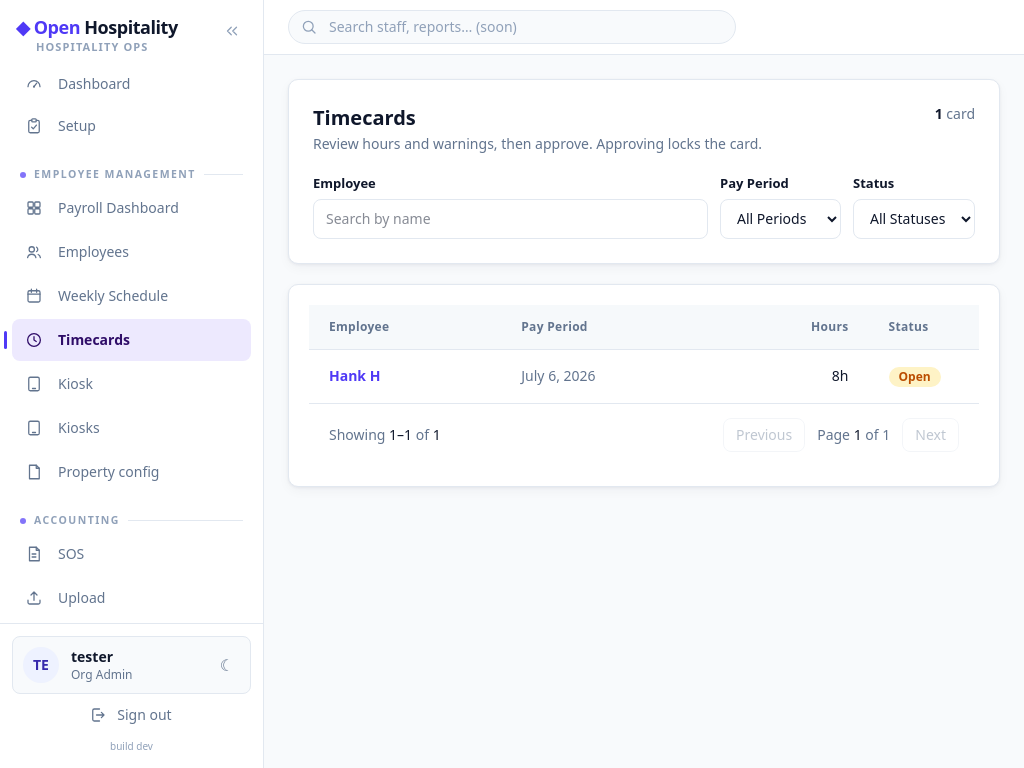
TimecardsPage › says so for a purged punch, and fetches nothing for it
This screenshot has width=1024, height=768.
Click the button "Hank H" at (355, 376), box [329,366,380,386]
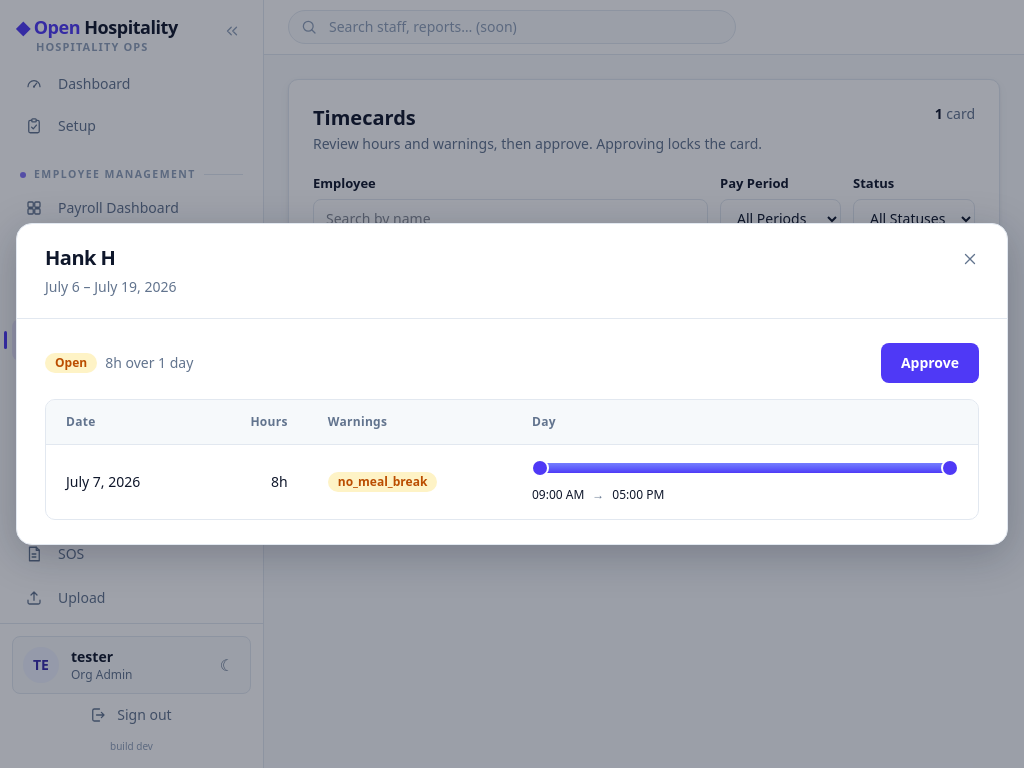
Click the button named "Clock Out" at (950, 468), box [943,461,957,475]
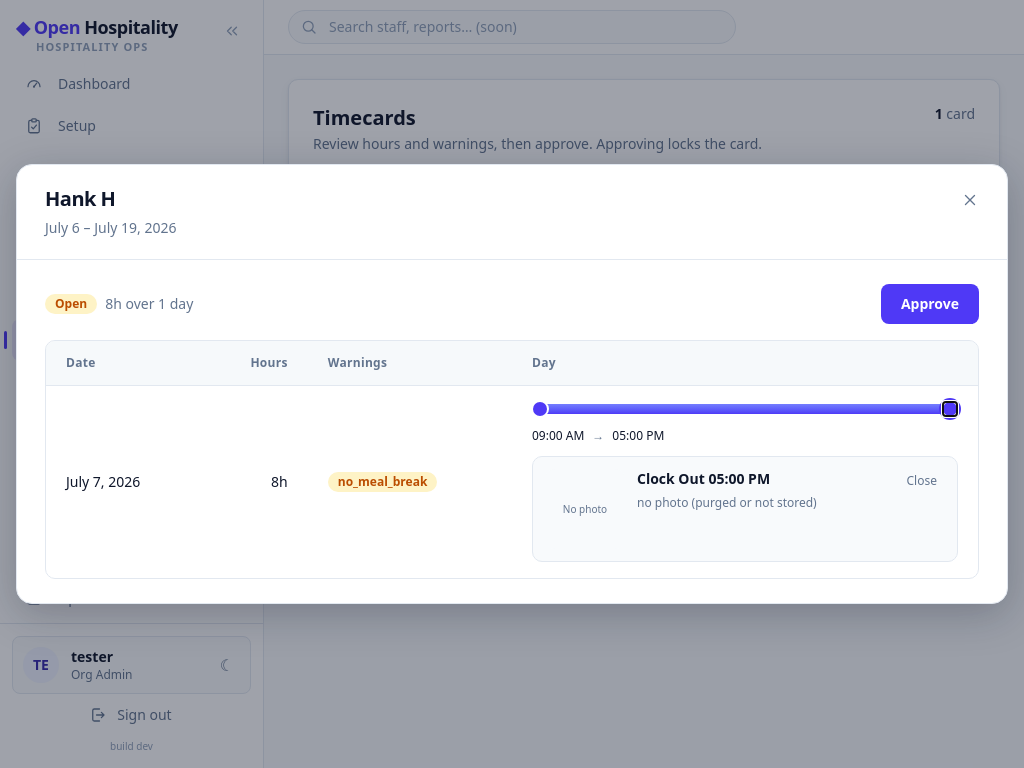
Result: the text "no photo (purged or not stored)" is shown at [637,495,817,511]
